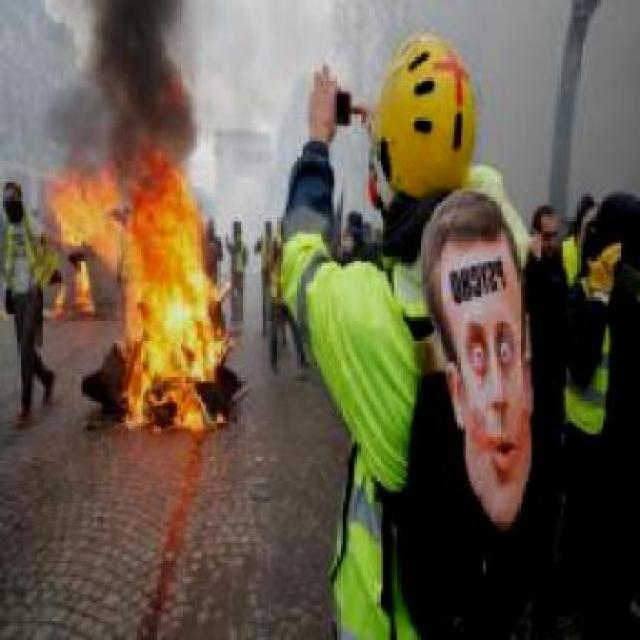Fire: (48, 156, 234, 432)
Smoke: (40, 0, 208, 156)
